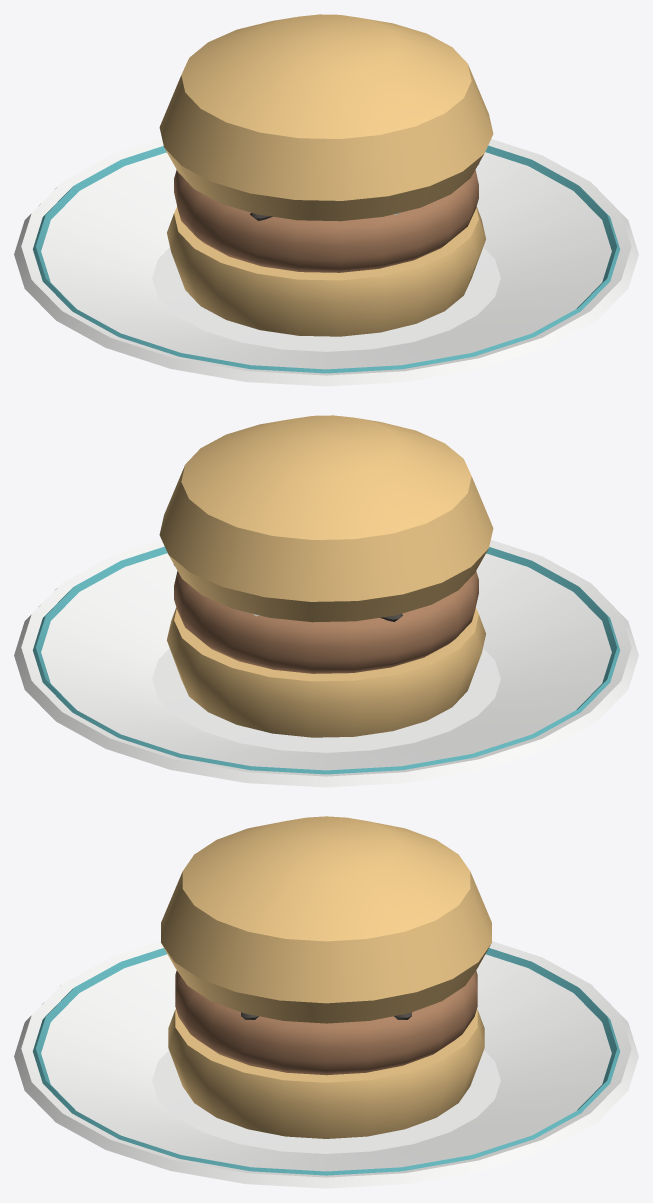
File: kr_dish_burger.glb
3 views of the same model, one above another, from view 1: azimuth 30°, elevation 25°; view 2: azimuth 150°, elevation 25°; view 3: azimuth 270°, elevation 25° (orthographic).
Visible parts, largest first — view 1: vc_m0_r4, vc_m0_r2, vc_m0_r6; view 2: vc_m0_r4, vc_m0_r2, vc_m0_r6; view 3: vc_m0_r4, vc_m0_r2, vc_m0_r6.
Part boxes in pixels (x1=…): vc_m0_r4: x1=32, y1=14, x2=620, y2=373; vc_m0_r2: x1=14, y1=139, x2=638, y2=386; vc_m0_r6: x1=174, y1=170, x2=478, y2=272; vc_m0_r4: x1=32, y1=415, x2=620, y2=774; vc_m0_r2: x1=14, y1=540, x2=638, y2=787; vc_m0_r6: x1=174, y1=571, x2=478, y2=673; vc_m0_r4: x1=32, y1=816, x2=620, y2=1175; vc_m0_r2: x1=14, y1=941, x2=638, y2=1188; vc_m0_r6: x1=175, y1=970, x2=477, y2=1075.
Bounding box in the file's own units: 0.43 × 0.2 × 0.43.
